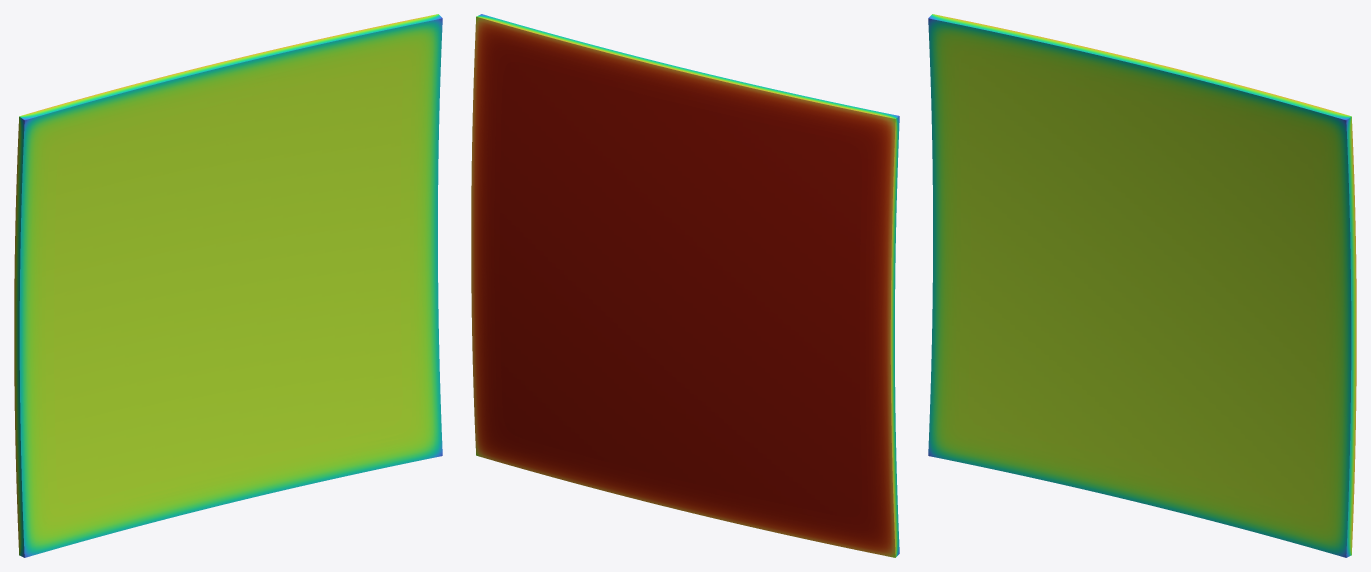
The model's file is Eclipse_DISP_CFRP_2mm.gltf.
The picture shows the model from 3 angles, left to right: view 1: azimuth 30°, elevation 25°; view 2: azimuth 150°, elevation 25°; view 3: azimuth 330°, elevation 25°; orthographic projection.
Visible parts, largest first — view 1: Renderer Node; view 2: Renderer Node; view 3: Renderer Node.
Part boxes in pixels (left/top/right/bottom): Renderer Node: left=14, top=14, right=442, bottom=557; Renderer Node: left=471, top=14, right=899, bottom=557; Renderer Node: left=928, top=14, right=1356, bottom=557.
Bounding box in the file's own units: 99.54 × 99.54 × 6.03.
1 material, 1 textured.
